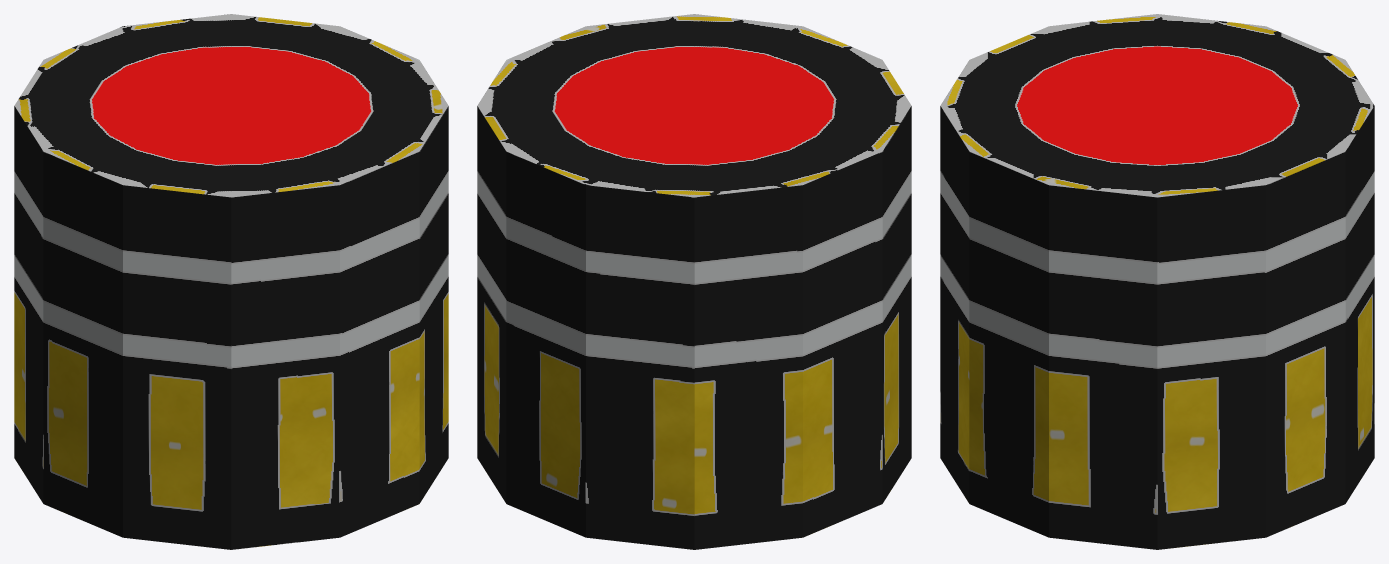
The model's file is engine.glb.
3 renders of one model, left to right at view 1: azimuth 30°, elevation 25°; view 2: azimuth 150°, elevation 25°; view 3: azimuth 270°, elevation 25°, orthographic.
Visible parts, largest first — view 1: TurtleDefaultBakeLayer EngineLow; view 2: TurtleDefaultBakeLayer EngineLow; view 3: TurtleDefaultBakeLayer EngineLow.
Boxes of the visible parts, x1,y1,x2,y2 form: TurtleDefaultBakeLayer EngineLow: (14, 14, 448, 549); TurtleDefaultBakeLayer EngineLow: (477, 14, 911, 549); TurtleDefaultBakeLayer EngineLow: (940, 14, 1374, 549).
Bounding box in the file's own units: 2.28 × 2.04 × 2.28.
1 material, 1 textured.
